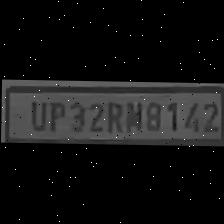1: (162, 97, 180, 131)
2: (84, 96, 104, 131), (200, 96, 218, 131)
3: (64, 96, 86, 131)
4: (180, 98, 200, 132)
8: (140, 96, 162, 130)
N: (122, 96, 142, 131)
P: (44, 97, 64, 131)
R: (103, 96, 123, 132)
U: (24, 96, 46, 129)
